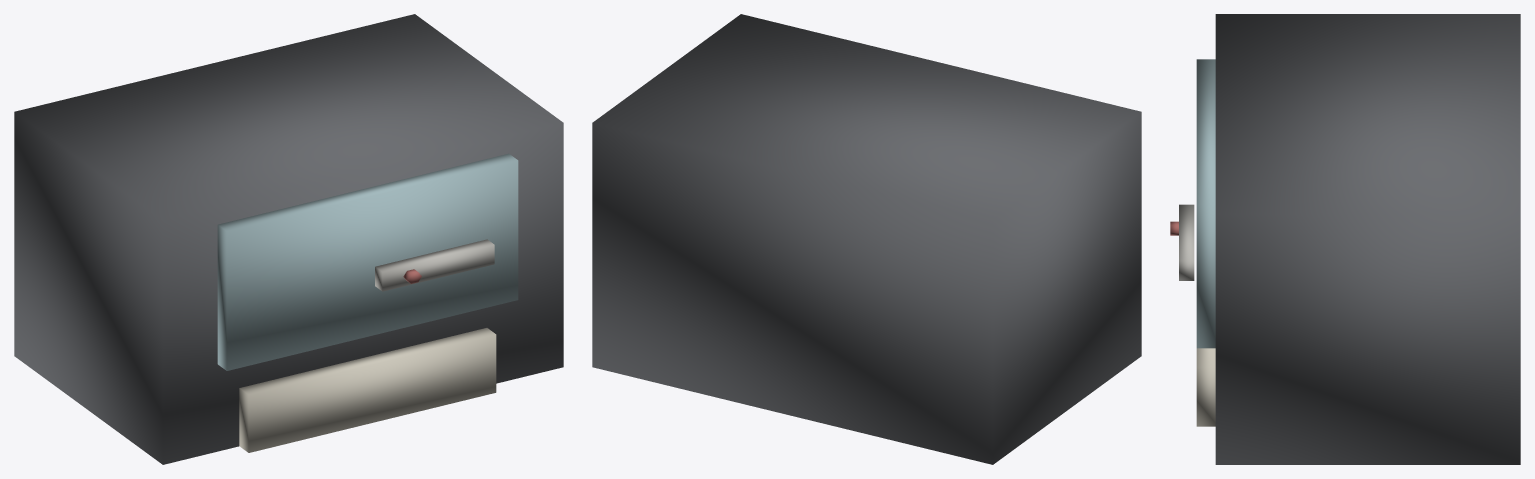
The model's file is television__squat.glb.
3 renders of one model, left to right at view 1: azimuth 30°, elevation 25°; view 2: azimuth 150°, elevation 25°; view 3: azimuth 270°, elevation 25°, orthographic. The views are drawn at different scales.
Visible parts, largest first — view 1: world; view 2: world; view 3: world.
Part boxes in pixels (x1,y1,x2,y2): world: [14, 14, 563, 464]; world: [592, 14, 1141, 464]; world: [1170, 14, 1520, 464].
Size of the model in its own units: 0.605 by 0.3528 by 0.4466.
